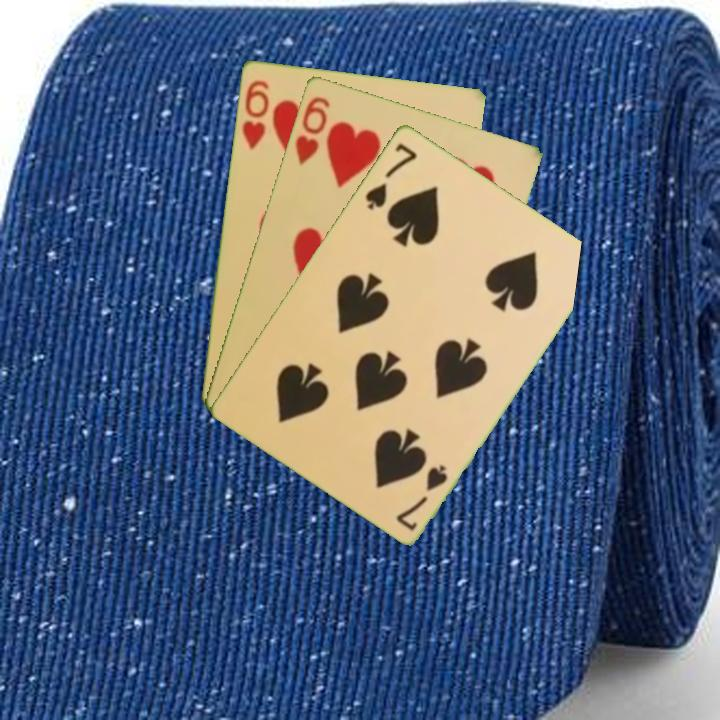6h: (291, 92, 333, 168), (238, 76, 272, 152)
7s: (361, 138, 420, 213), (392, 460, 451, 533)
